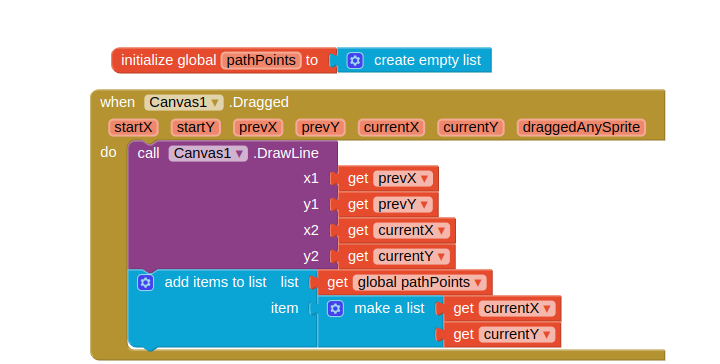bottles: (307, 23, 516, 87)
